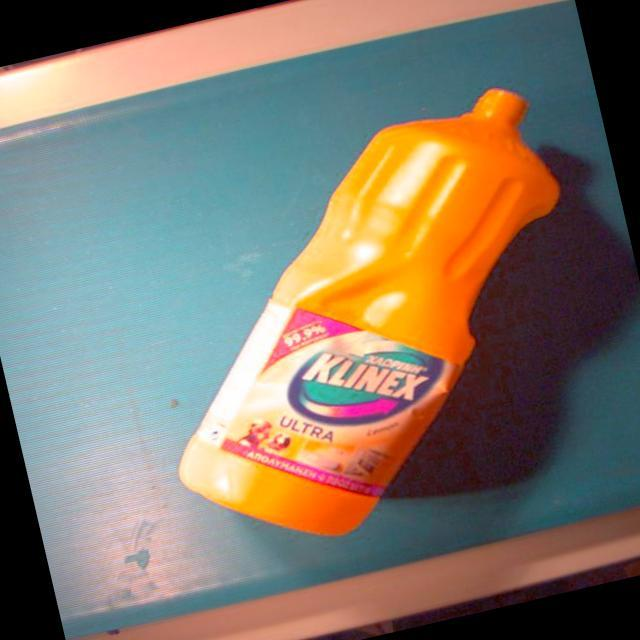HDPE Plastic: (172, 82, 564, 539)
